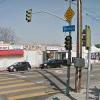Traffic light: (13, 6, 41, 40)
